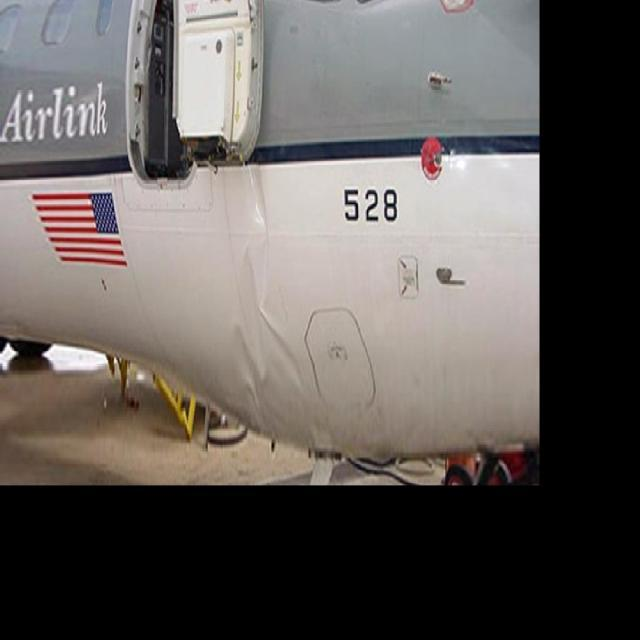dent: (226, 164, 308, 432)
